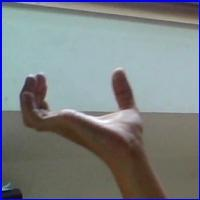B: (11, 61, 157, 167)
